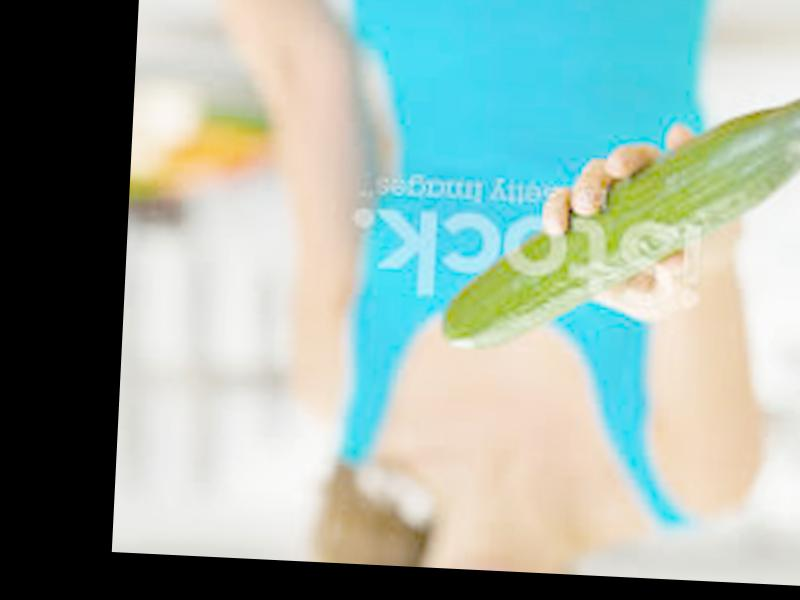Cucumber: (439, 77, 800, 365)
